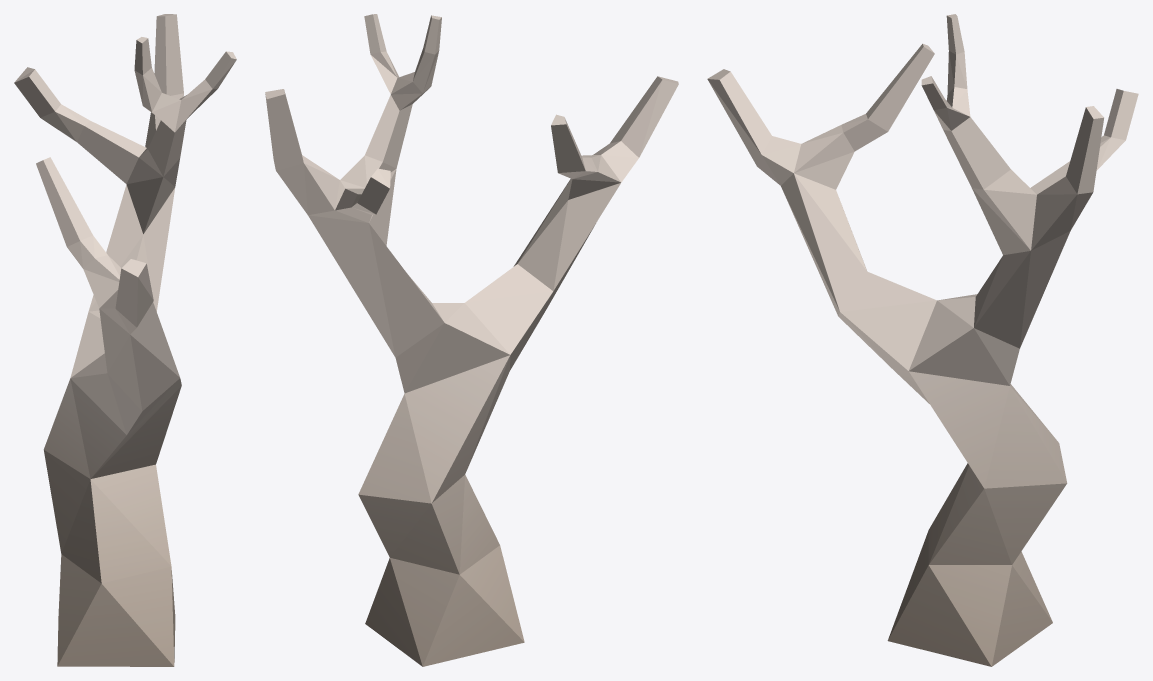
Rendered from BirchBark2.fbx.
The picture shows the model from 3 angles, left to right: view 1: azimuth 30°, elevation 25°; view 2: azimuth 150°, elevation 25°; view 3: azimuth 270°, elevation 25°; orthographic projection. The views are drawn at different scales.
Parts seen in each view (by area): view 1: BirchBark2; view 2: BirchBark2; view 3: BirchBark2.
Part boxes in pixels (box(x1,y1,x2,y2)): BirchBark2: box(14, 14, 236, 666); BirchBark2: box(265, 14, 678, 666); BirchBark2: box(707, 14, 1138, 666).
Bounding box in the file's own units: 150 × 371 × 232.
